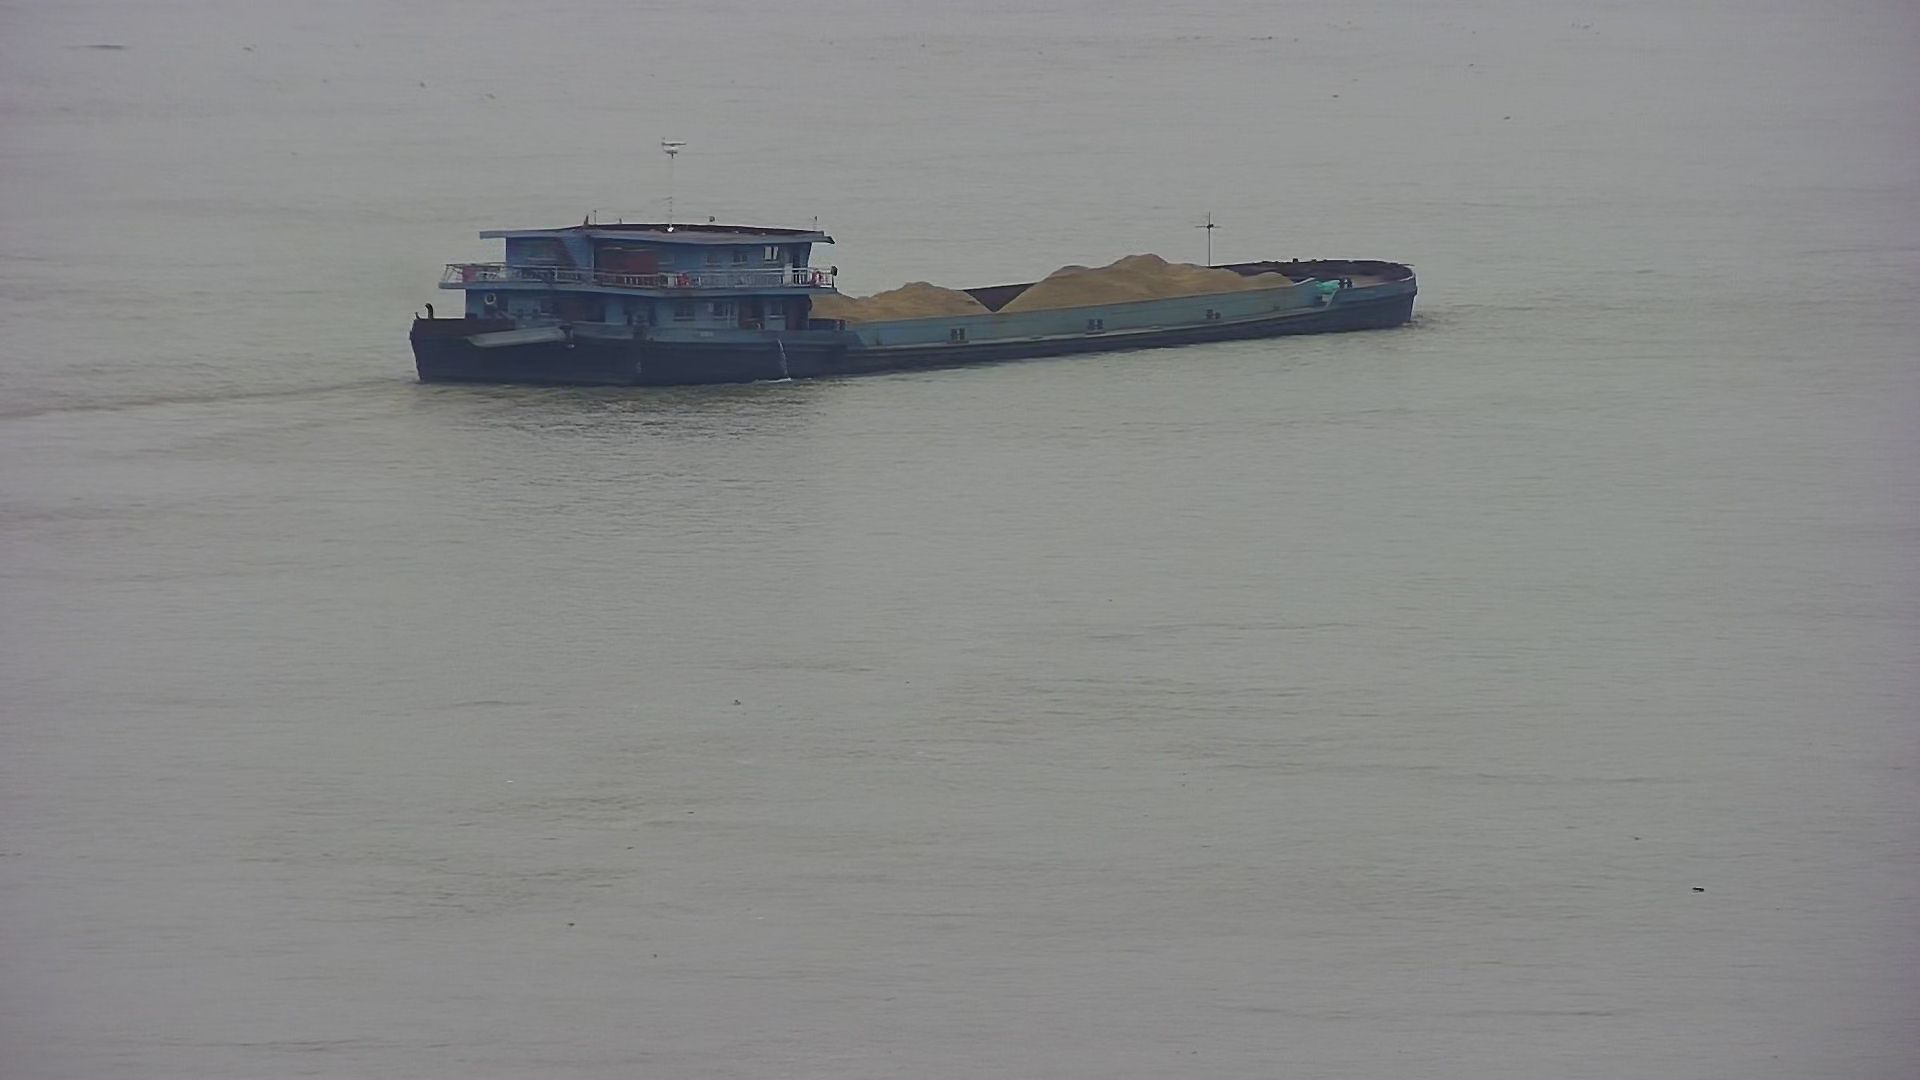ship: (409, 178, 1429, 394)
